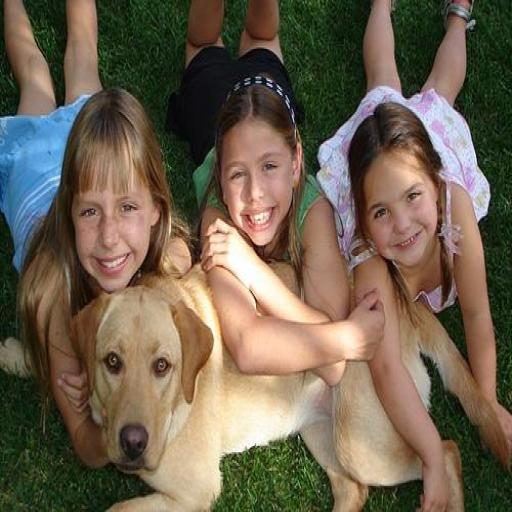dog_face: (87, 296, 215, 477)
